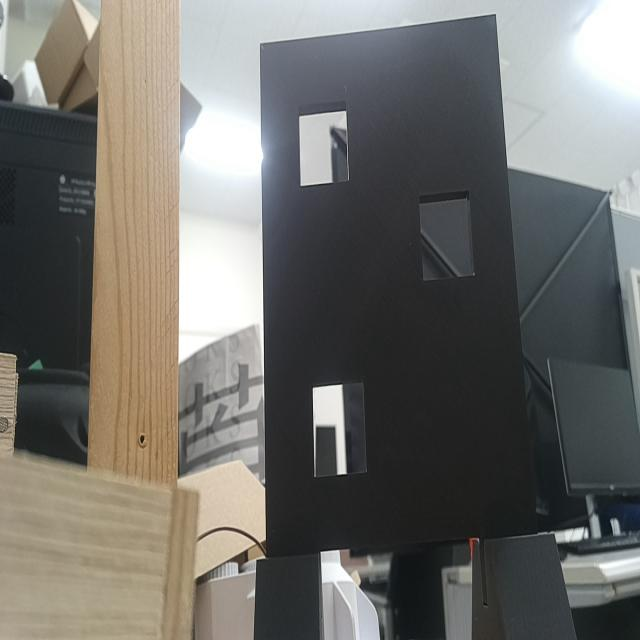Obstacle: (313, 380, 368, 478), (419, 194, 476, 283), (298, 103, 349, 188)
Wall: (259, 16, 537, 560)
